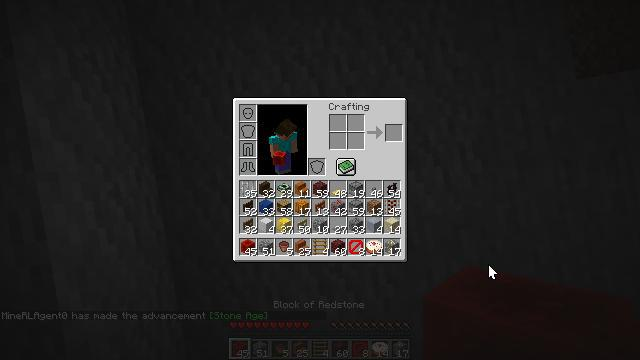cursor: (488, 264, 498, 280)
